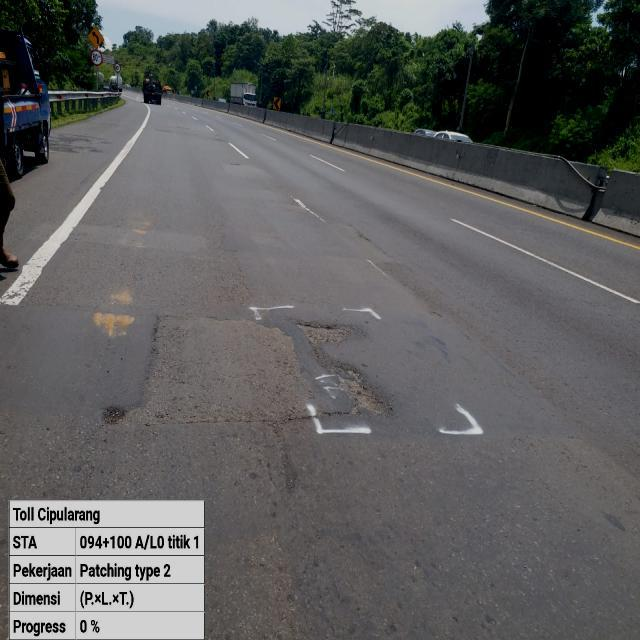Buraco: (96, 310, 319, 430), (285, 316, 400, 420)
